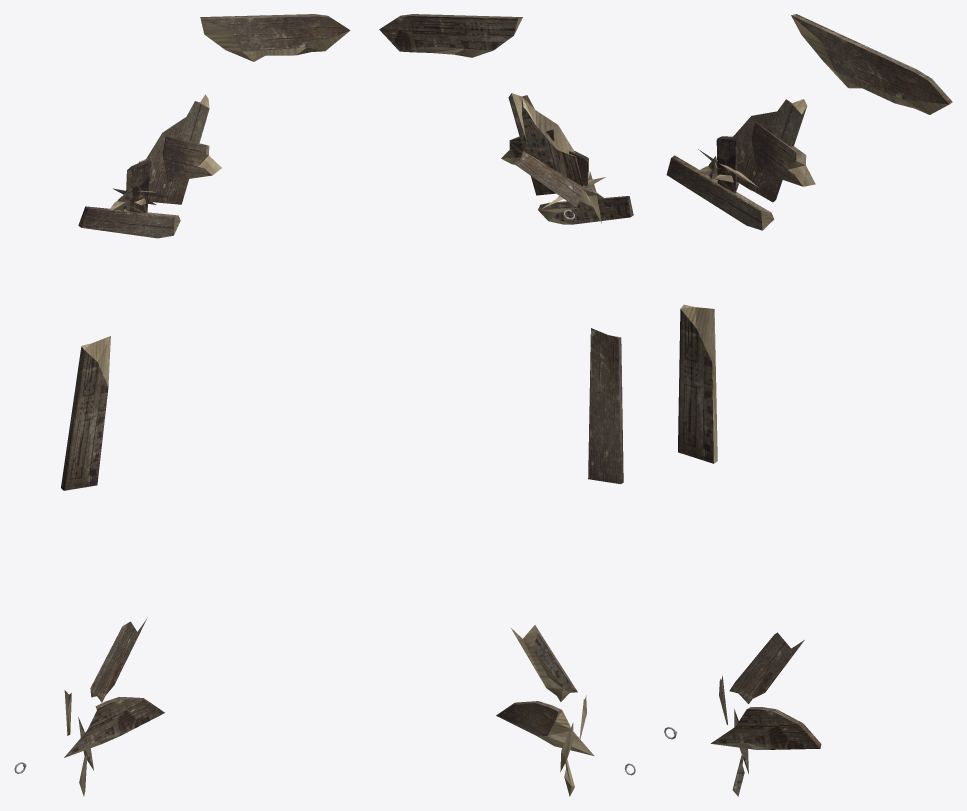
Rendered from prop_door_wood_arched_d_static.glb.
3 renders of one model, left to right at view 1: azimuth 30°, elevation 25°; view 2: azimuth 150°, elevation 25°; view 3: azimuth 330°, elevation 25°, orthographic. The views are drawn at different scales.
Bounding box in the file's own units: 148 × 367 × 37.12.
1 material, 1 textured.
